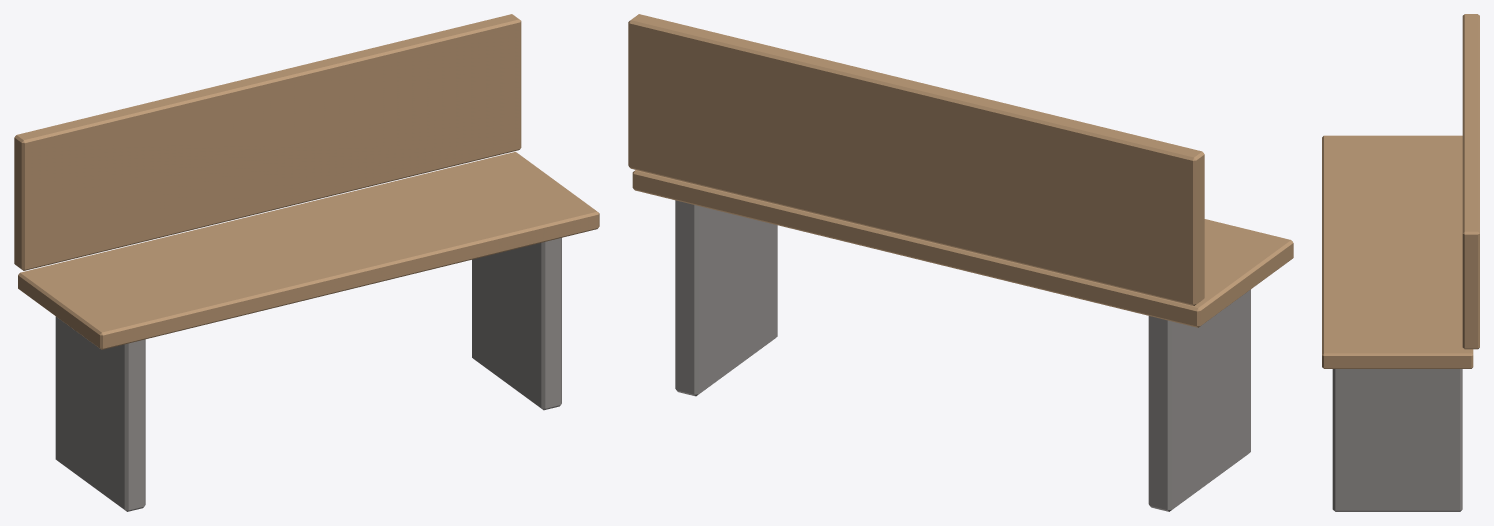
3 views of the same model, side by side, from view 1: azimuth 30°, elevation 25°; view 2: azimuth 150°, elevation 25°; view 3: azimuth 270°, elevation 25° (orthographic). The views are drawn at different scales.
Visible parts, largest first — view 1: Bench; view 2: Bench; view 3: Bench.
Part boxes in pixels (bbox=[...]): Bench: bbox=[14, 14, 599, 511]; Bench: bbox=[628, 14, 1293, 511]; Bench: bbox=[1322, 14, 1479, 511].
Size of the model in its own units: 1.2 by 0.75 by 0.365.
